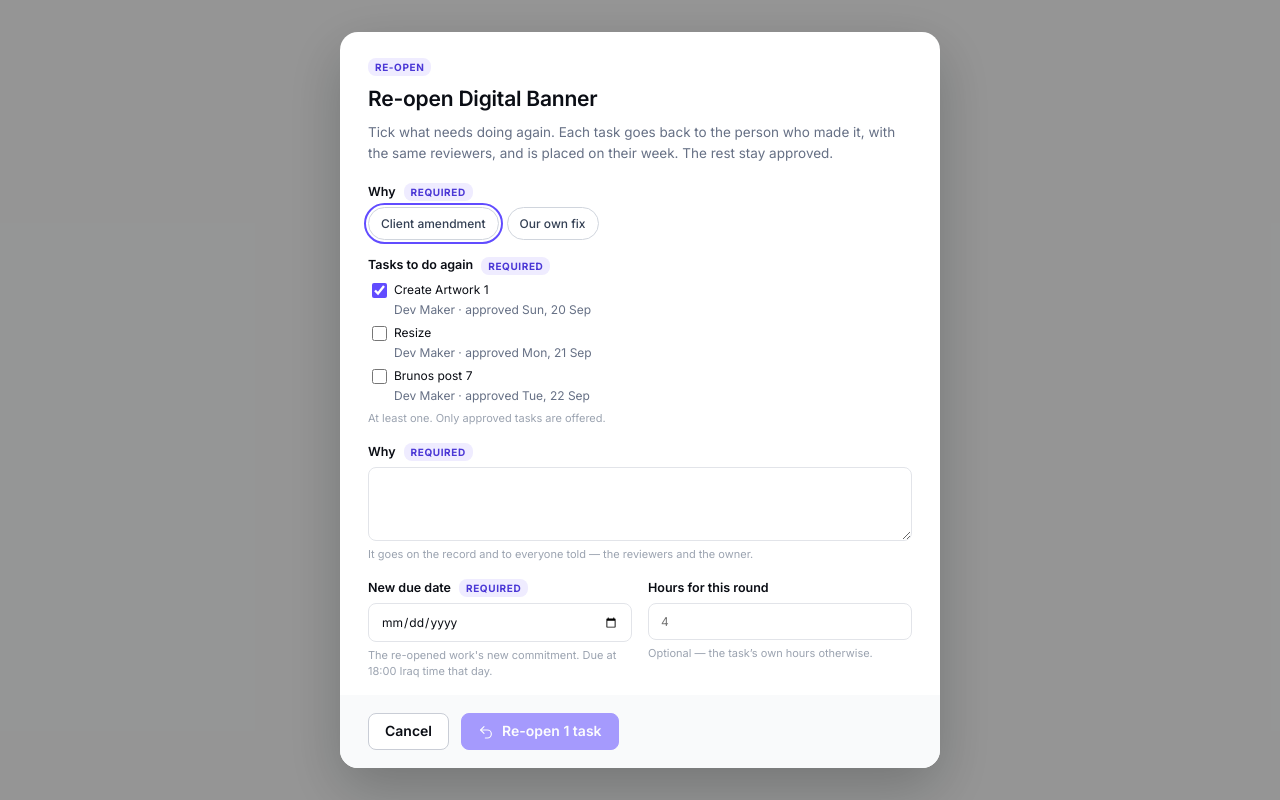
Test: ReopenDialog (ADR-0103) › an hours of nothing is refused on the field
Click the radio button with test id "reopen-dialog-kind-own_fix".
click(553, 224)  # box left=507, top=207, right=599, bottom=240
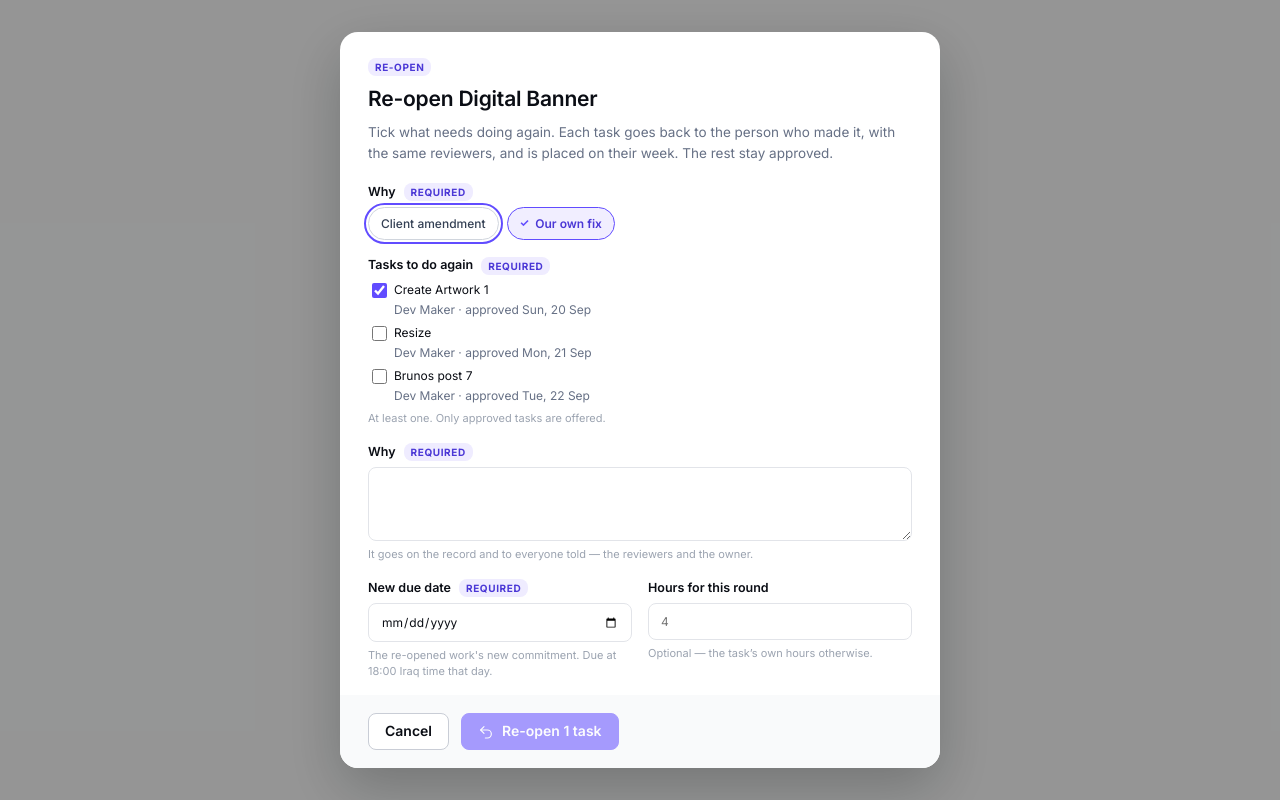
Type "Typo" into the text box with test id "reopen-dialog-reason".
click(640, 504); type("Typo")  # box left=368, top=467, right=912, bottom=541
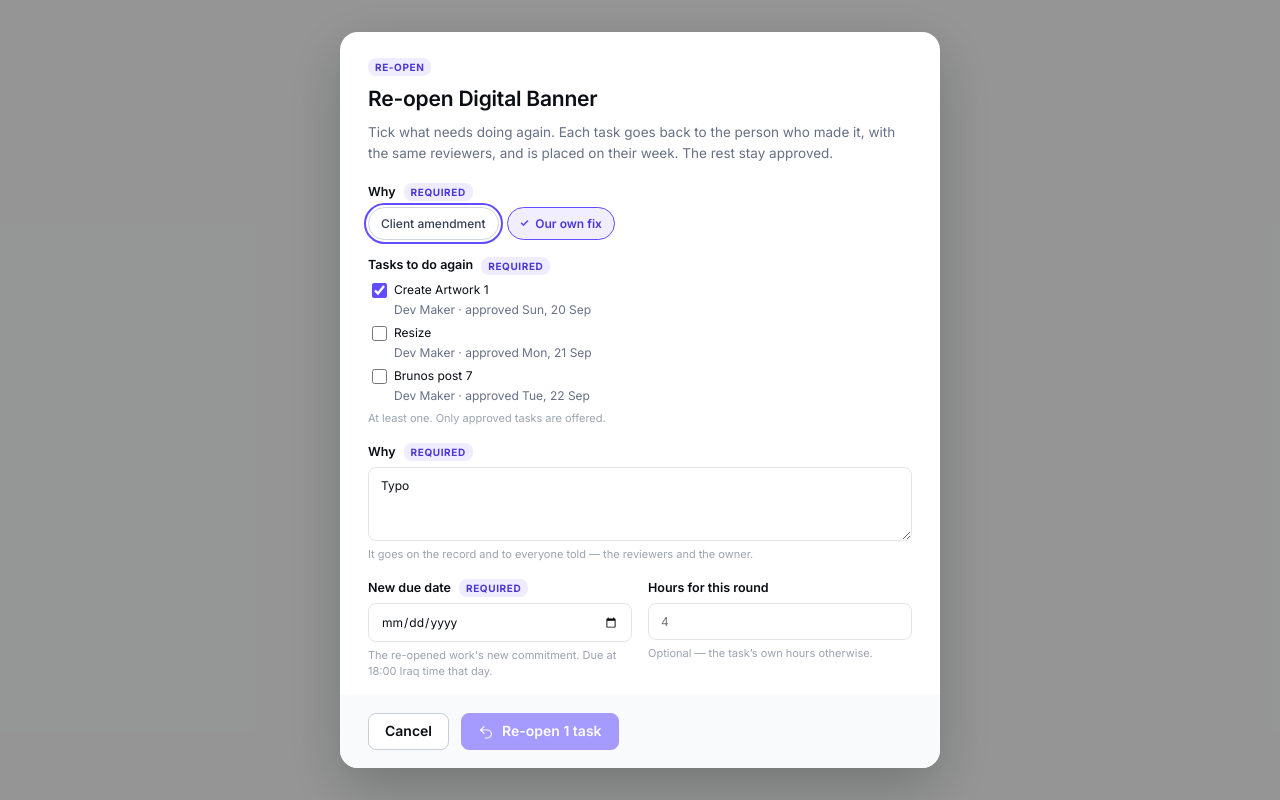
Type "2026-10-10" into the date field with test id "reopen-dialog-due".
click(500, 623); type("2026-10-10")  # box left=368, top=603, right=632, bottom=642
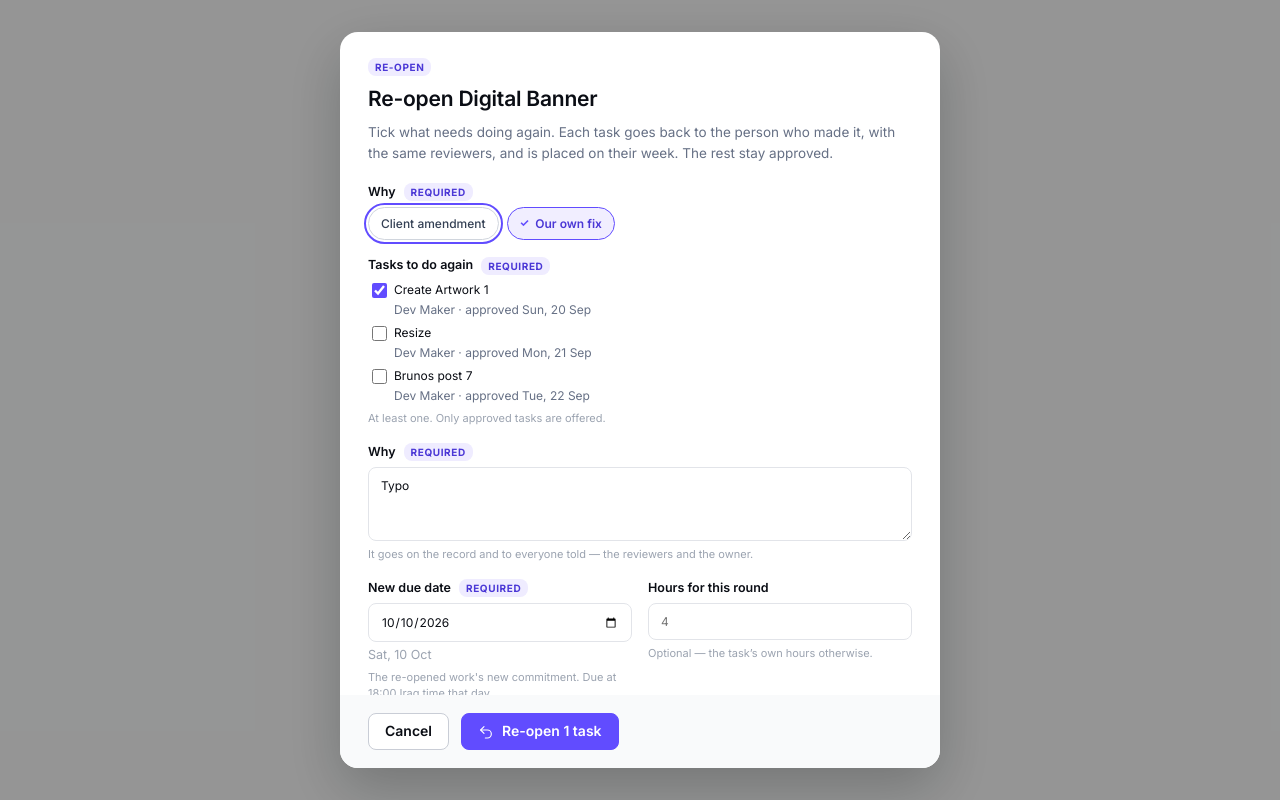
Type "0" into the number field with test id "reopen-dialog-hours".
click(780, 622); type("0")  # box left=648, top=603, right=912, bottom=640
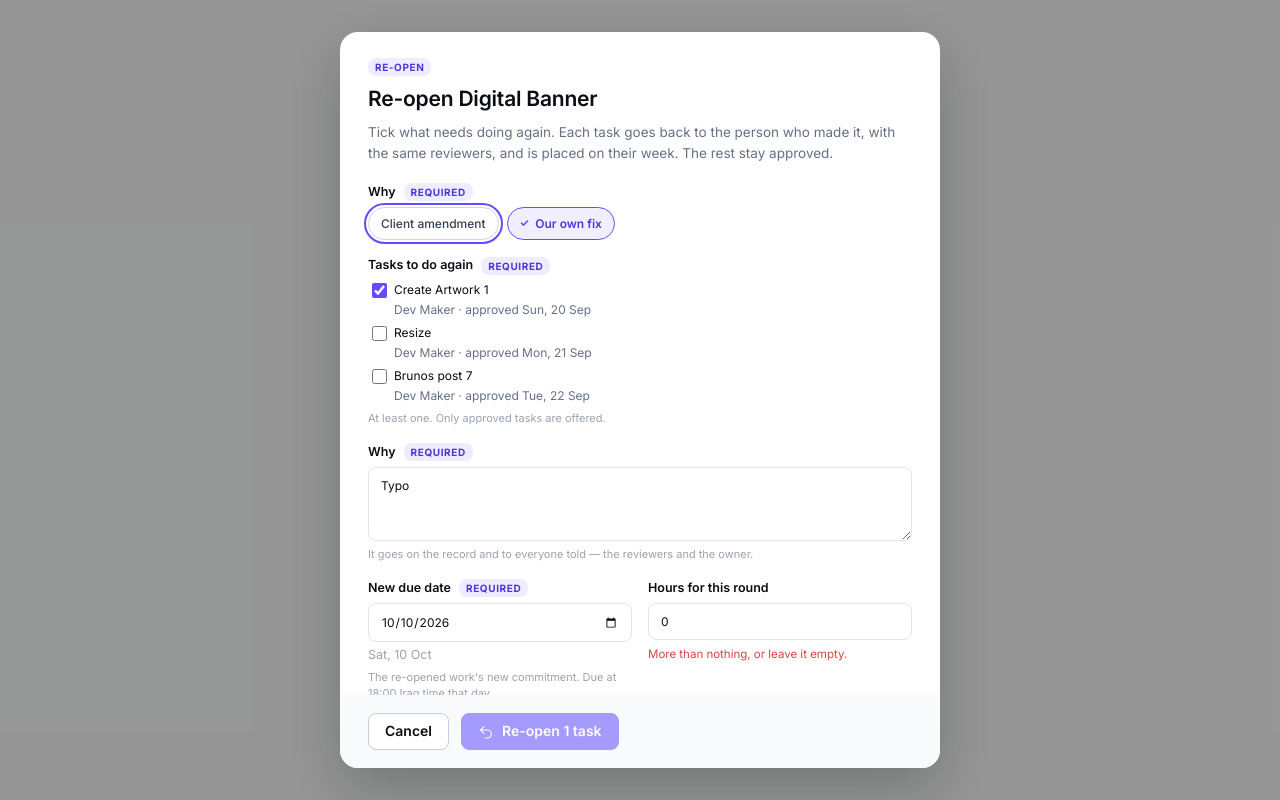
Expected: the button with test id "reopen-dialog-submit" is disabled, left=461, top=713, right=618, bottom=750
